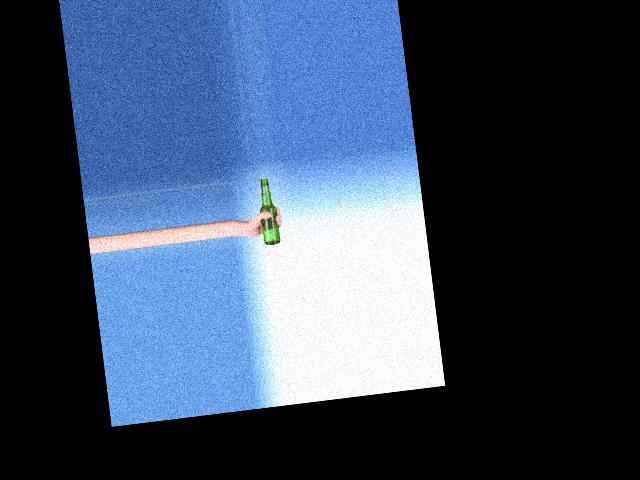beer: (256, 177, 280, 245)
